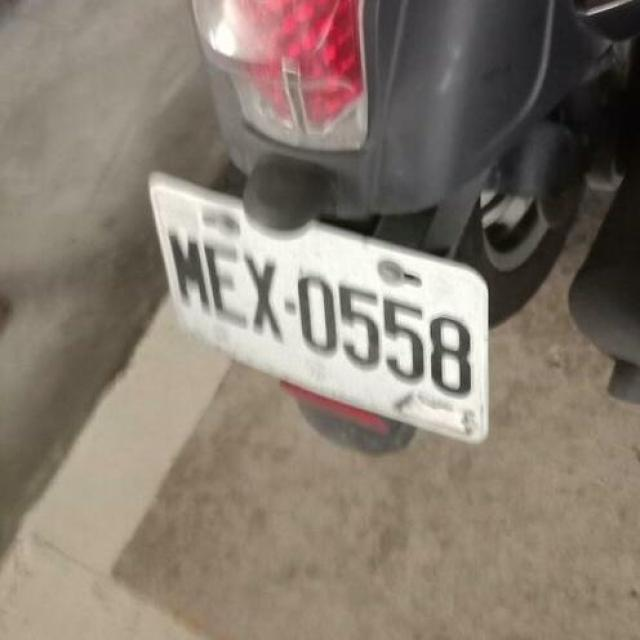W: (129, 157, 514, 462)
